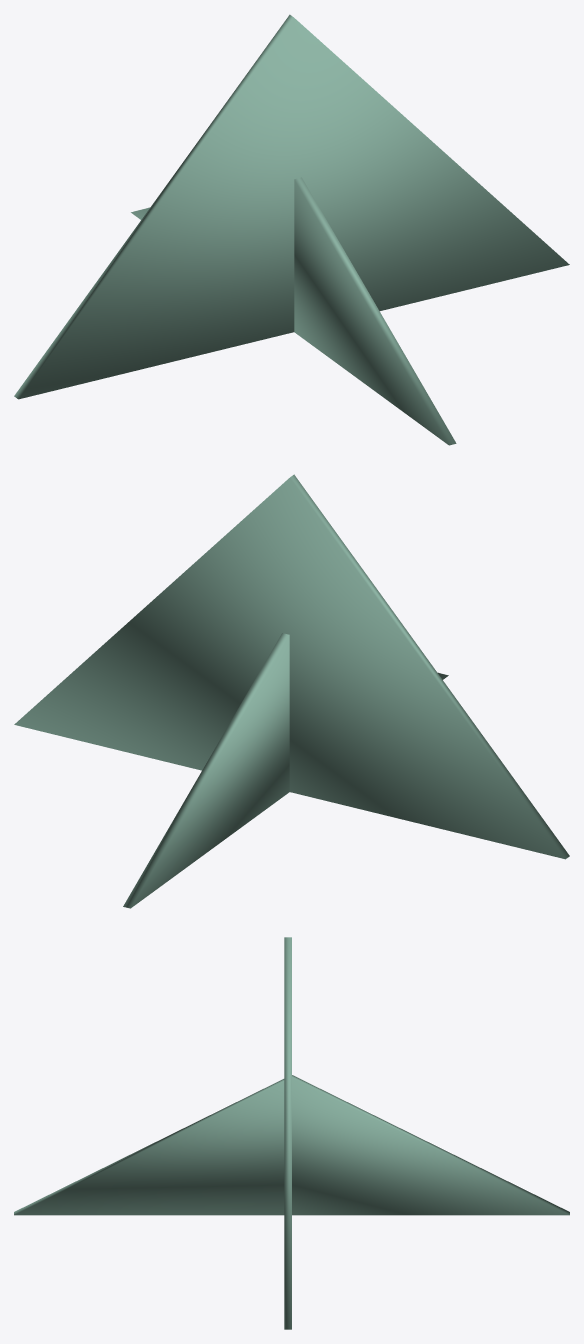
The model's file is Nature GrassBush 4.fbx.
The picture shows the model from 3 angles, top to bottom: view 1: azimuth 30°, elevation 25°; view 2: azimuth 150°, elevation 25°; view 3: azimuth 270°, elevation 25°; orthographic projection. The views are drawn at different scales.
Parts seen in each view (by area): view 1: Nature GrassBush 4; view 2: Nature GrassBush 4; view 3: Nature GrassBush 4.
Part boxes in pixels (box(x1,y1,x2,y2)): Nature GrassBush 4: box(14, 14, 569, 445); Nature GrassBush 4: box(14, 474, 569, 908); Nature GrassBush 4: box(14, 937, 569, 1329).
Size of the model in its own units: 72.5 by 39.5 by 72.5.
